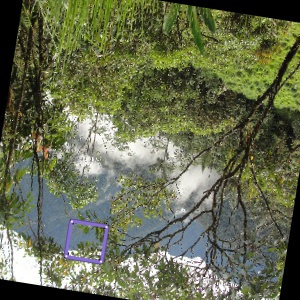square: (62, 218, 108, 265)
